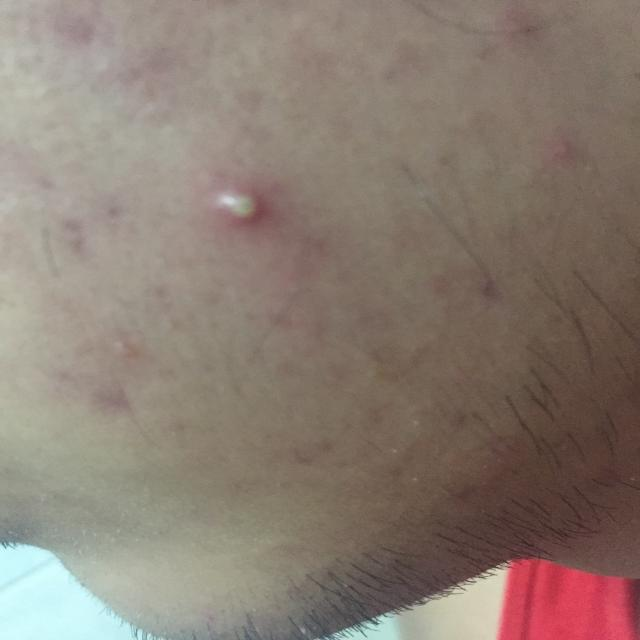Pimples: (208, 181, 274, 231)
